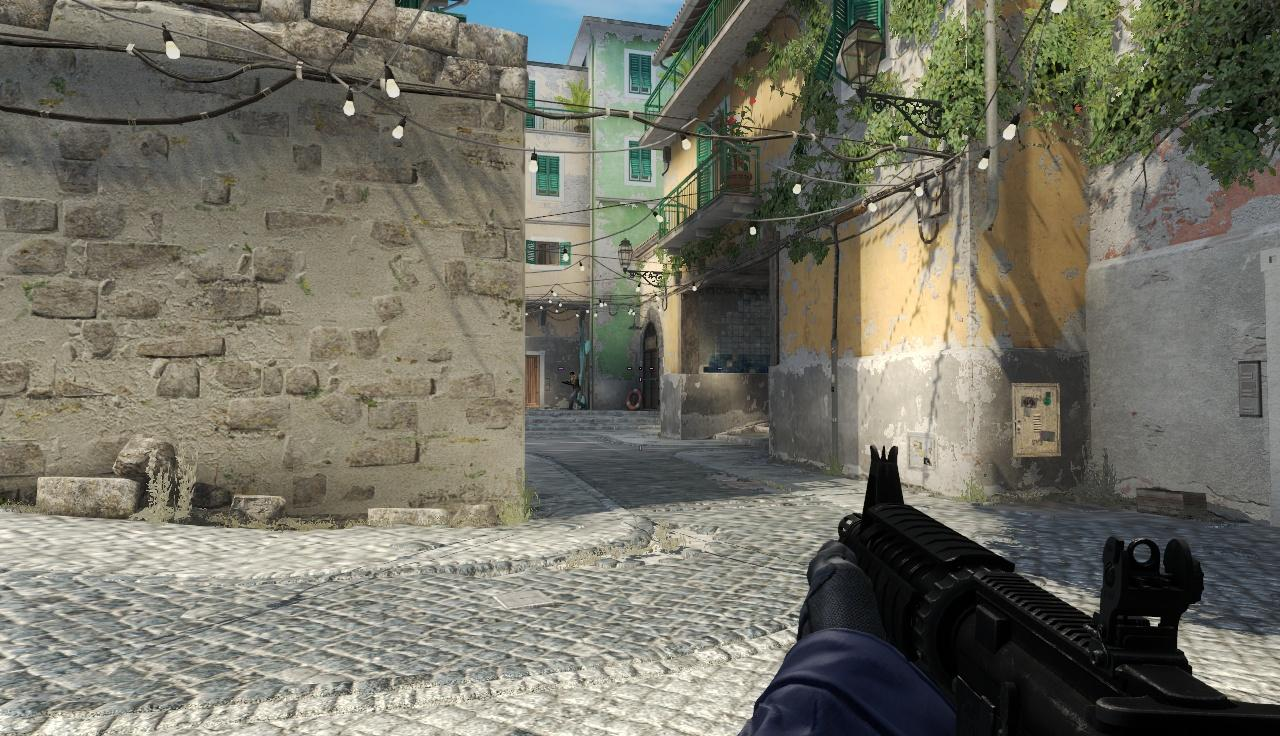rifle: (826, 446, 1280, 736)
tt: (568, 373, 583, 411)
tthead: (570, 372, 576, 380)
